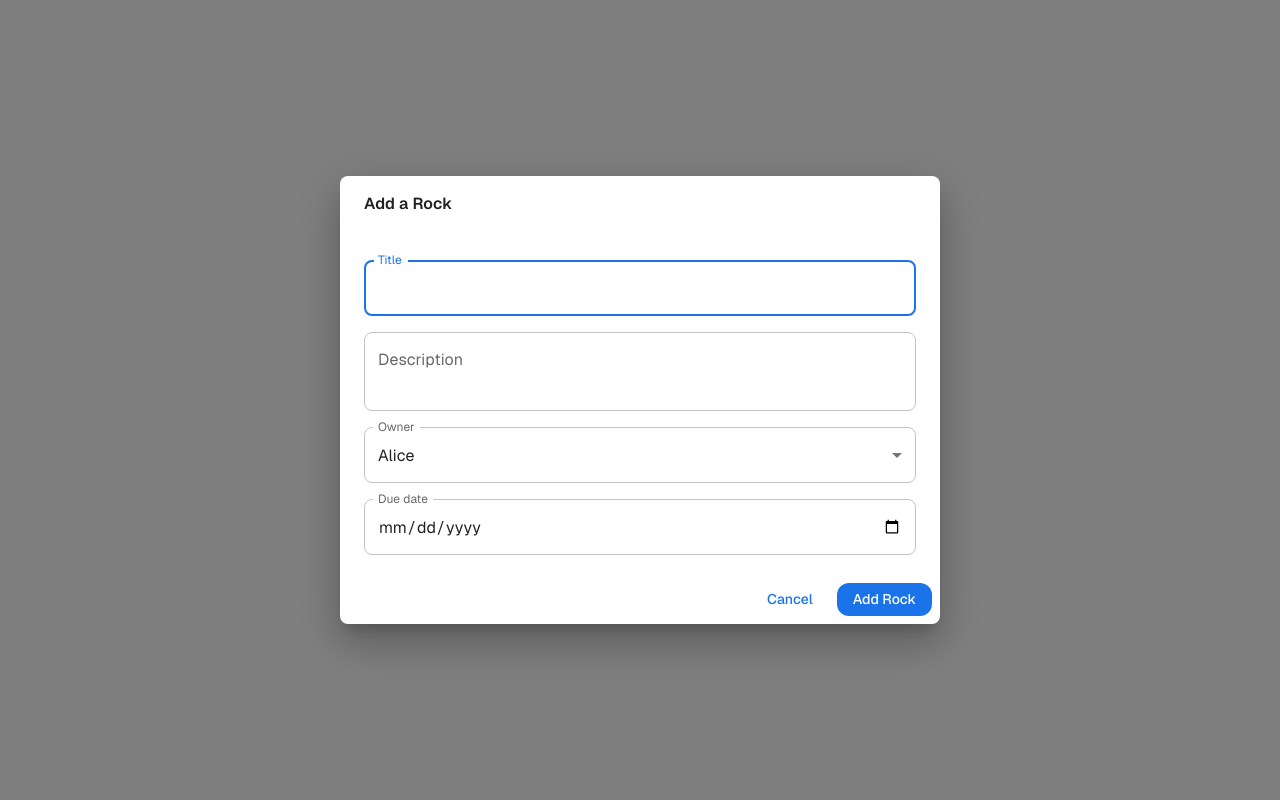
Scenario: CreateRockDialog › blocks submit without a title
The image size is (1280, 800).
Click the button "Add Rock": (884, 600) [837,584,932,616]
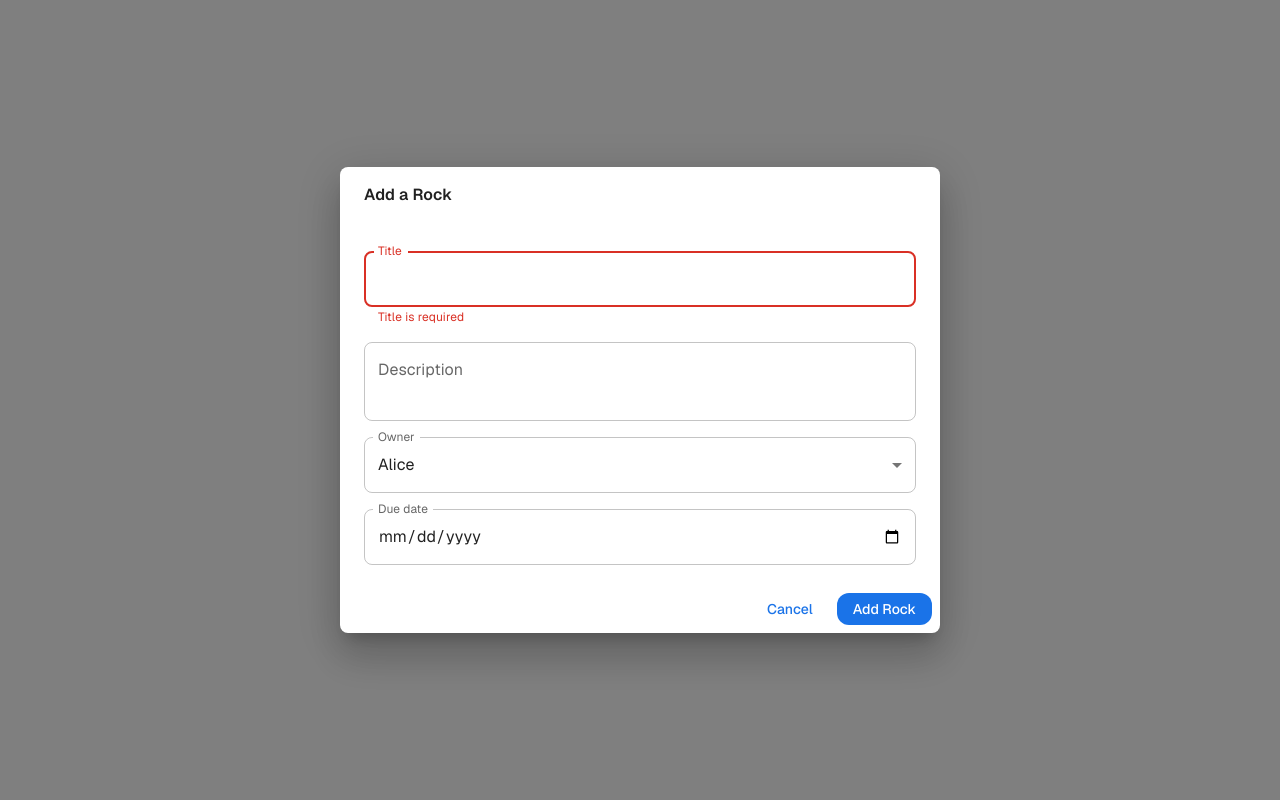
Expected: the text "Title is required" is shown, [378,309,464,325]
